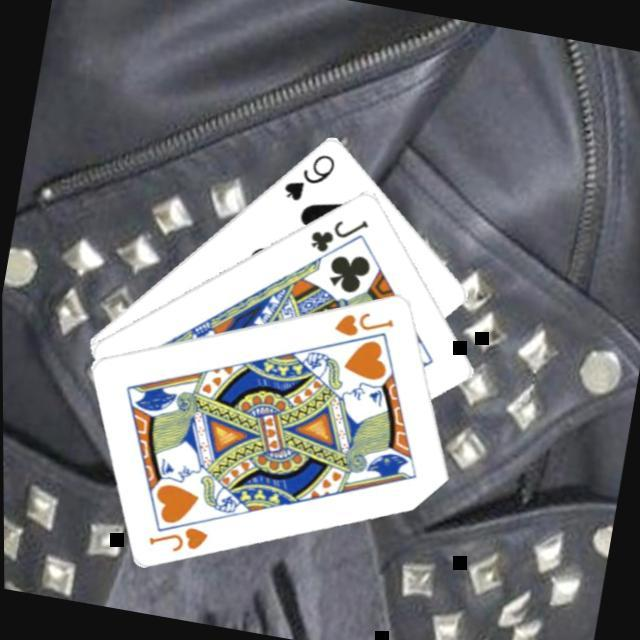9S: (280, 146, 340, 211)
JC: (306, 209, 374, 265)
JH: (144, 517, 213, 562), (330, 304, 399, 348)
